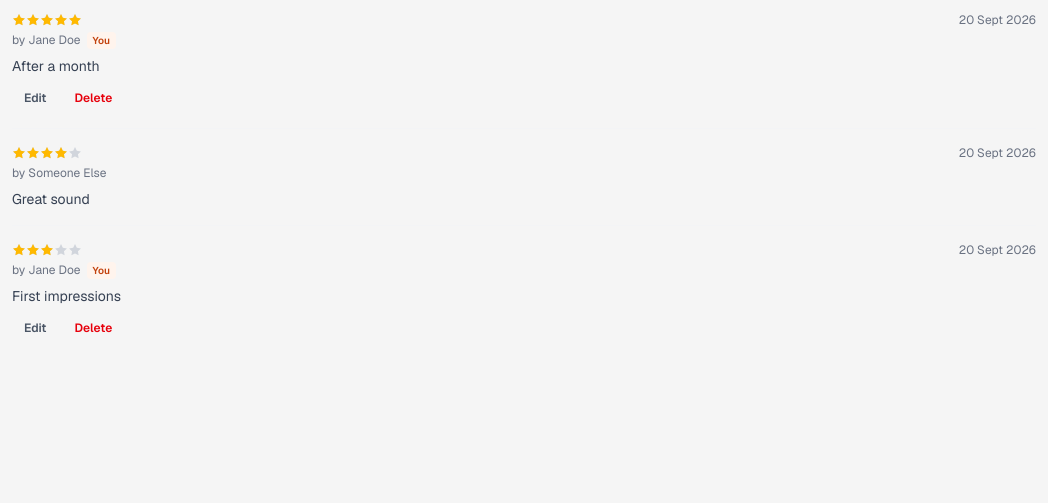
Test: reviews › RatingList › shows the server error when an update is rejected
Click the button with aria-label "Edit review" at (35,328), box [12, 314, 58, 342]
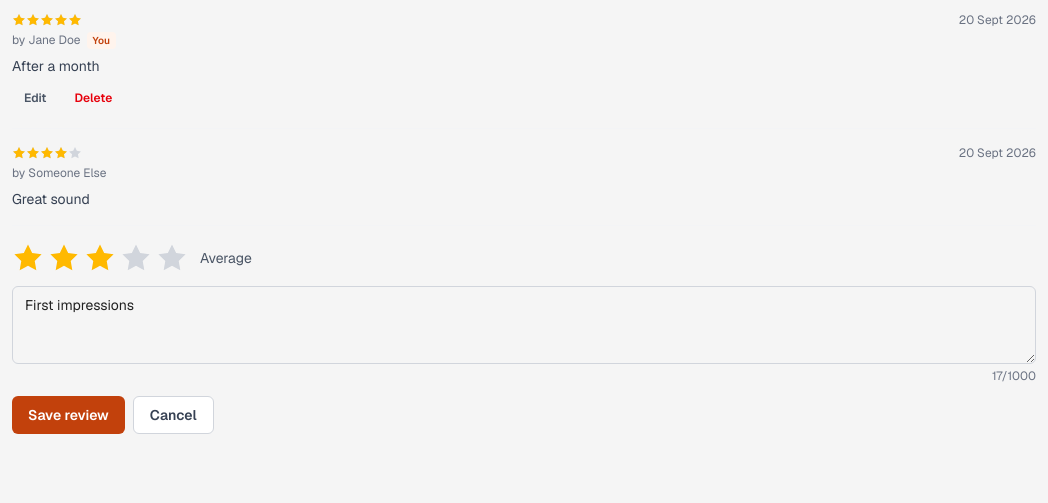
Click the button "Save review" at (68,415), box [12, 396, 125, 434]
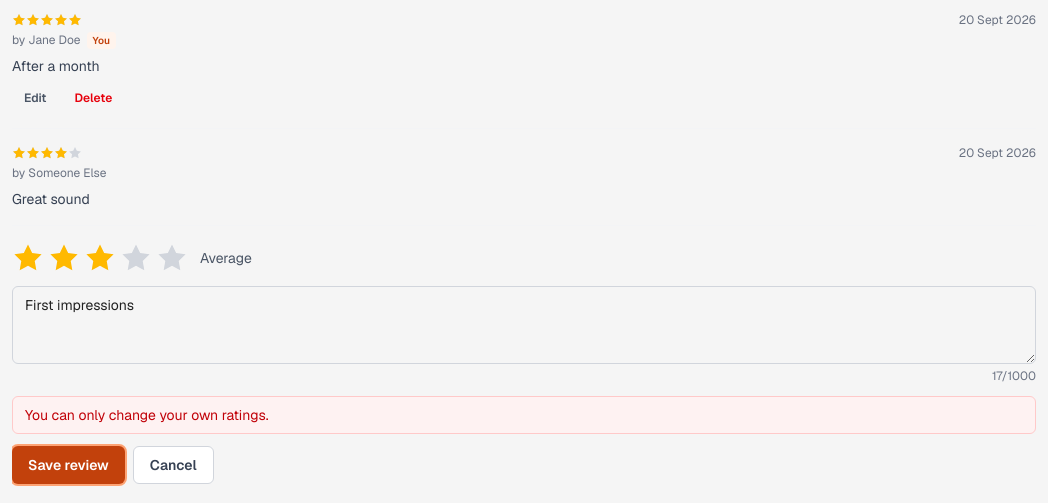
Now the message reads "You can only change your own ratings.", box [25, 406, 268, 424]
